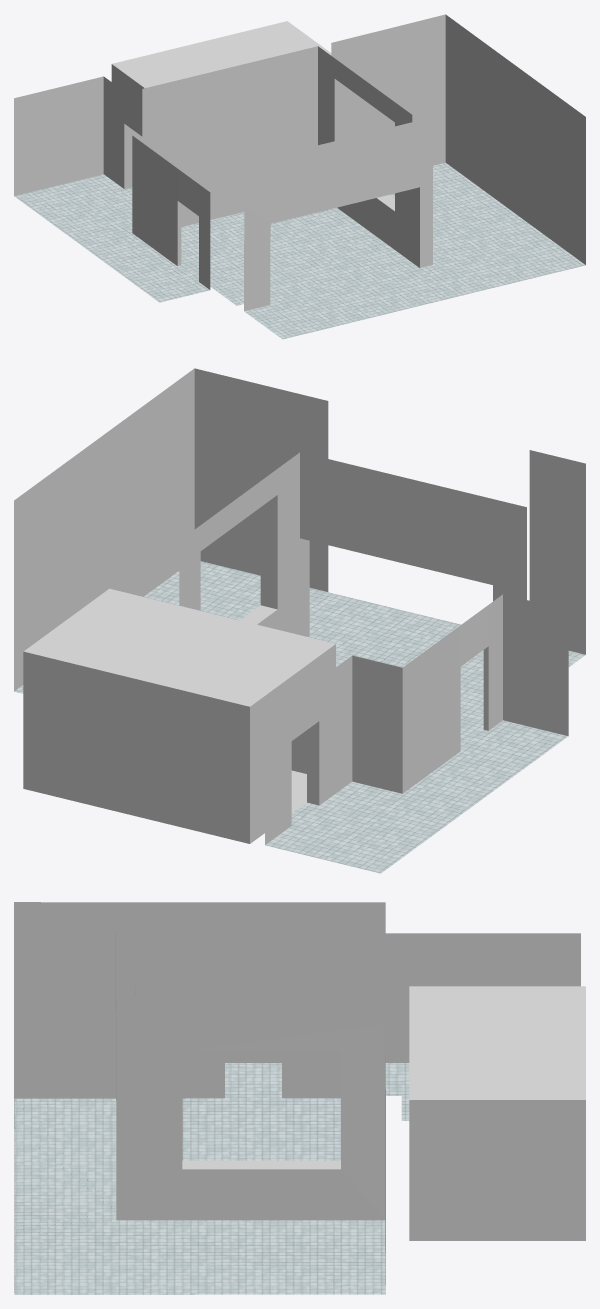
The model's file is rz_cont1_522_v2.glb.
3 views of the same model, one above another, from view 1: azimuth 30°, elevation 25°; view 2: azimuth 150°, elevation 25°; view 3: azimuth 270°, elevation 25° (orthographic). The views are drawn at different scales.
Parts seen in each view (by area): view 1: Cube; view 2: Cube; view 3: Cube.
Part boxes in pixels (left/top/right/bottom): Cube: left=14, top=14, right=585, bottom=339; Cube: left=14, top=368, right=585, bottom=873; Cube: left=14, top=902, right=585, bottom=1294.
Bounding box in the file's own units: 18.35 × 7.26 × 19.15.
Materials: 4 (2 with a texture image).
